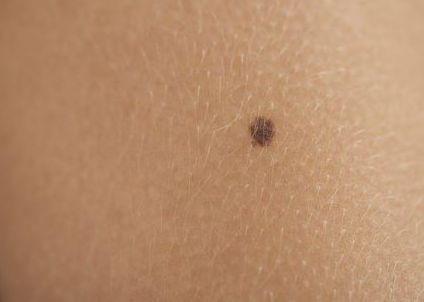Normal: (250, 118, 276, 148)
